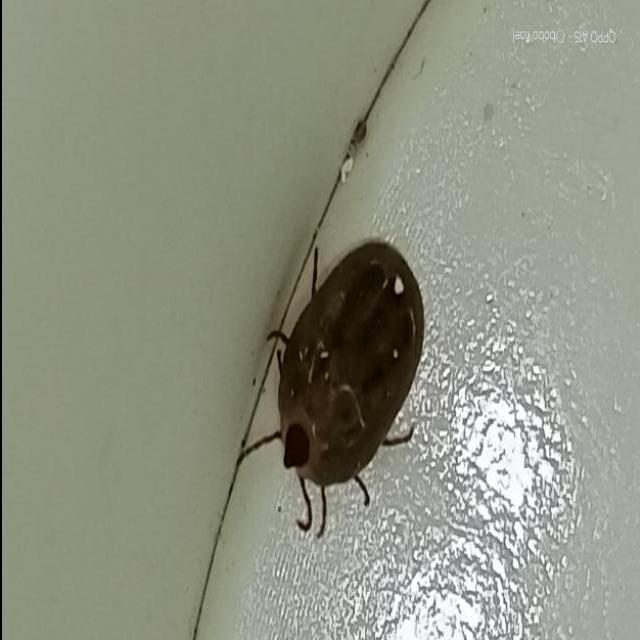Rhipicephalus Sanguineus-F-Fed: (226, 240, 423, 540)
